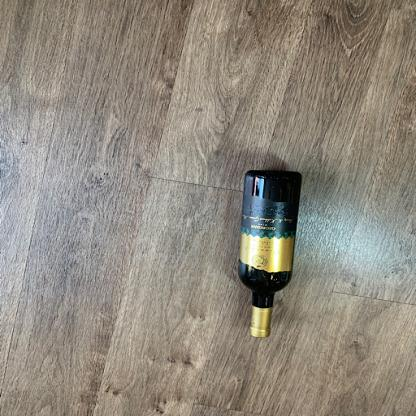trash: (234, 169, 301, 339)
